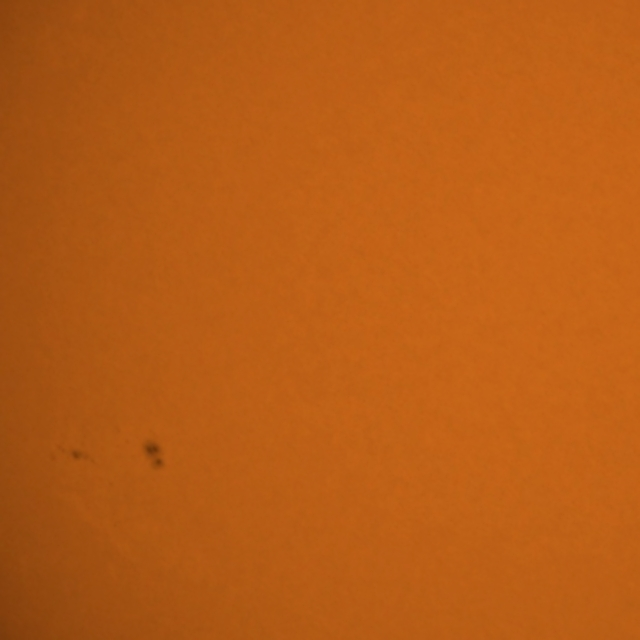sunspot: (48, 444, 97, 466), (140, 436, 168, 472)
